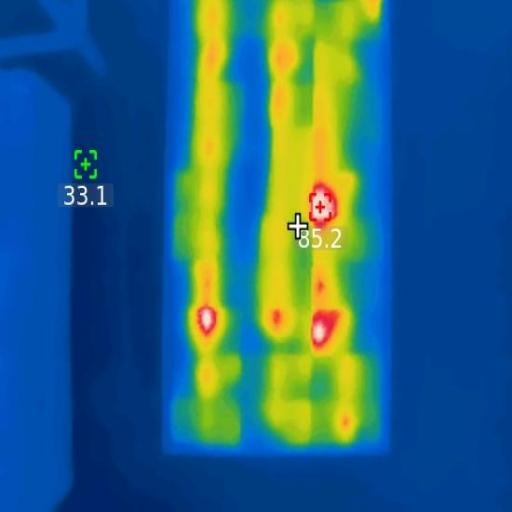hotspot: (309, 184, 337, 226), (313, 307, 336, 346), (198, 302, 214, 335), (269, 310, 283, 327)
